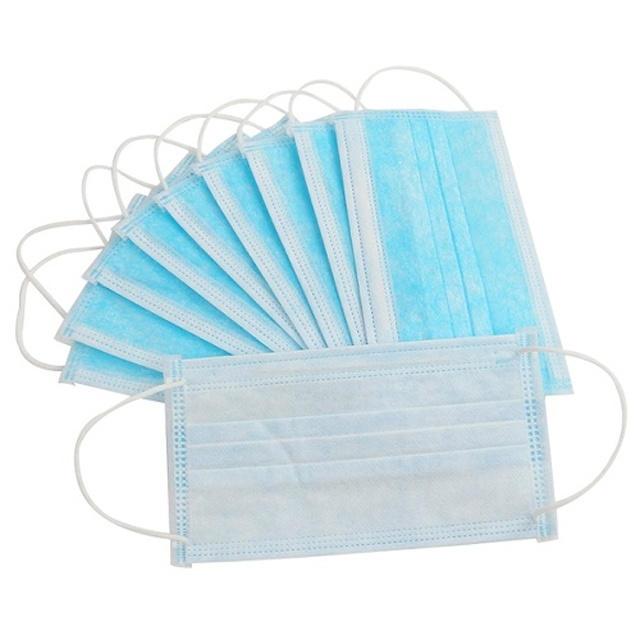mask: (72, 327, 629, 570), (333, 63, 577, 403)
